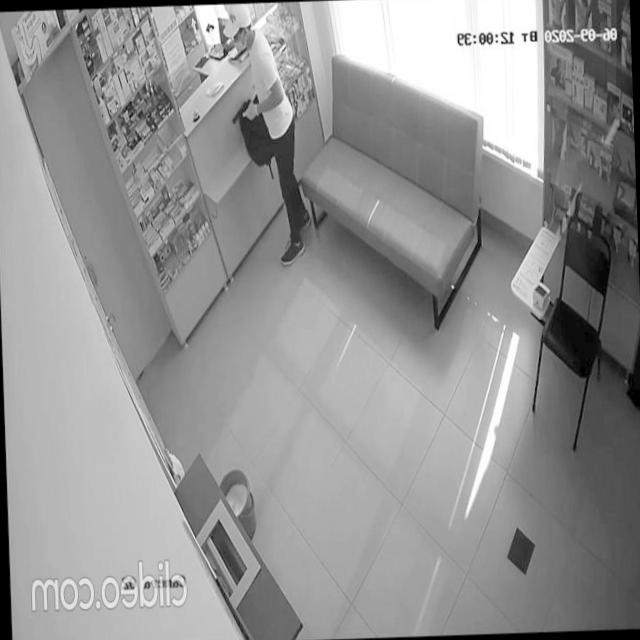gun: (229, 94, 252, 128)
person with a gun: (222, 2, 314, 269)
